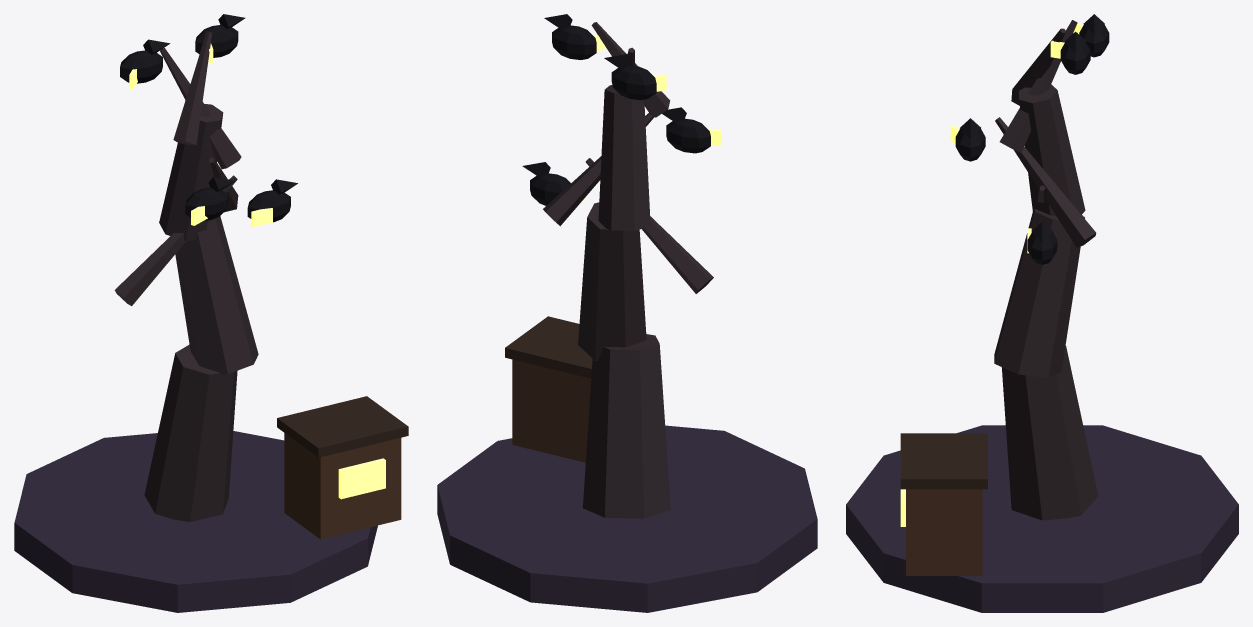
The model's file is messaging-raven-tree.glb.
3 views of the same model, side by side, from view 1: azimuth 30°, elevation 25°; view 2: azimuth 150°, elevation 25°; view 3: azimuth 270°, elevation 25° (orthographic). The views are drawn at different scales.
Visible parts, largest first — view 1: cw_paint, cw_glow; view 2: cw_paint; view 3: cw_paint, cw_glow.
Boxes of the visible parts, bbox=[...] form: cw_paint: bbox=[14, 14, 408, 612]; cw_glow: bbox=[129, 44, 385, 499]; cw_paint: bbox=[437, 14, 817, 612]; cw_paint: bbox=[846, 14, 1238, 612]; cw_glow: bbox=[900, 23, 1083, 526].
Size of the model in its own units: 3.42 by 5.3 by 3.6.
